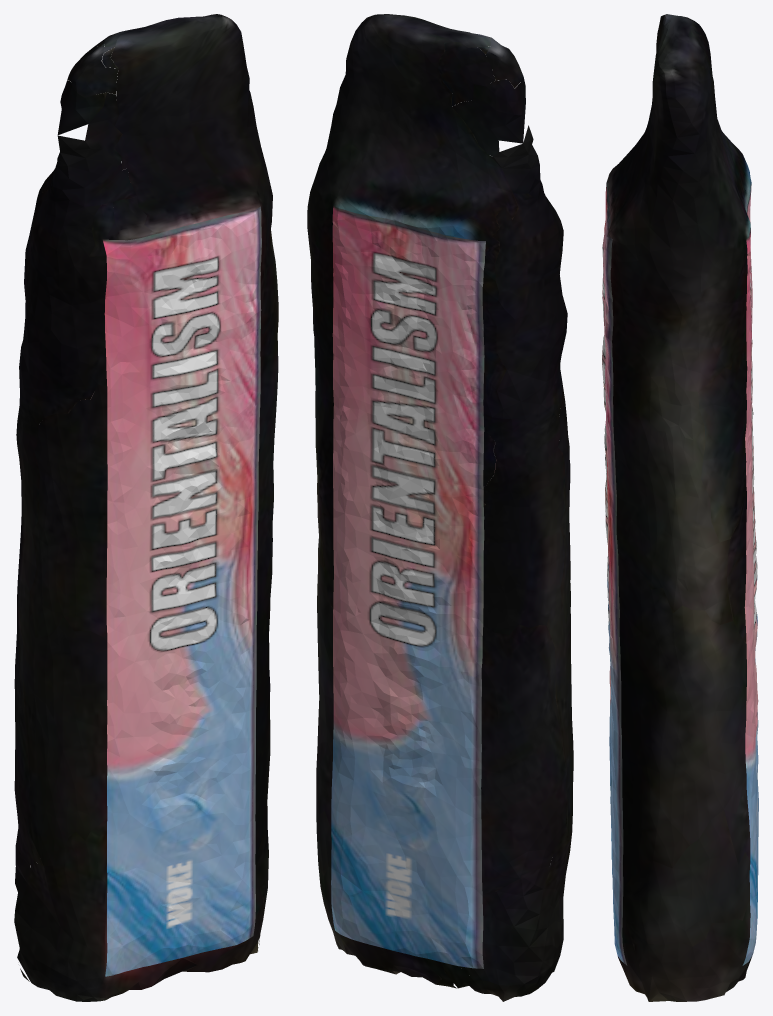
Rendered from Orientalism vape.glb.
3 renders of one model, left to right at view 1: azimuth 30°, elevation 25°; view 2: azimuth 150°, elevation 25°; view 3: azimuth 270°, elevation 25°, orthographic.
Parts seen in each view (by area): view 1: Orientalism vape; view 2: Orientalism vape; view 3: Orientalism vape.
Boxes of the visible parts, x1,y1,x2,y2 form: Orientalism vape: (14, 14, 278, 1001); Orientalism vape: (307, 14, 573, 1001); Orientalism vape: (602, 14, 758, 1001).
Size of the model in its own units: 0.033 by 0.1199 by 0.0183.
Materials: 2 (2 with a texture image).
